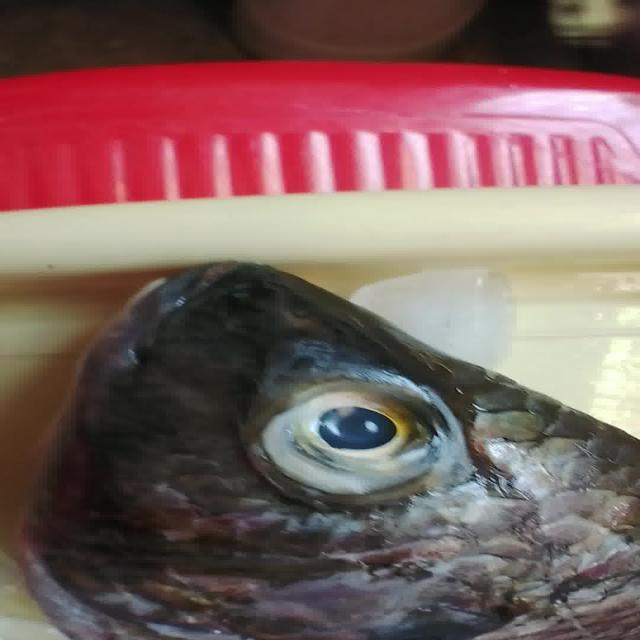Fresh: (241, 364, 492, 498)
